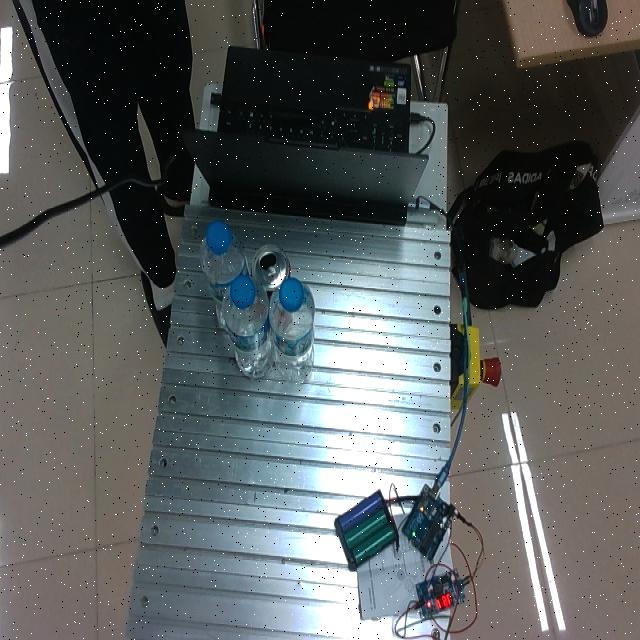coca: (251, 243, 292, 301)
lavie: (222, 273, 275, 379), (201, 222, 251, 330), (269, 278, 317, 382)
